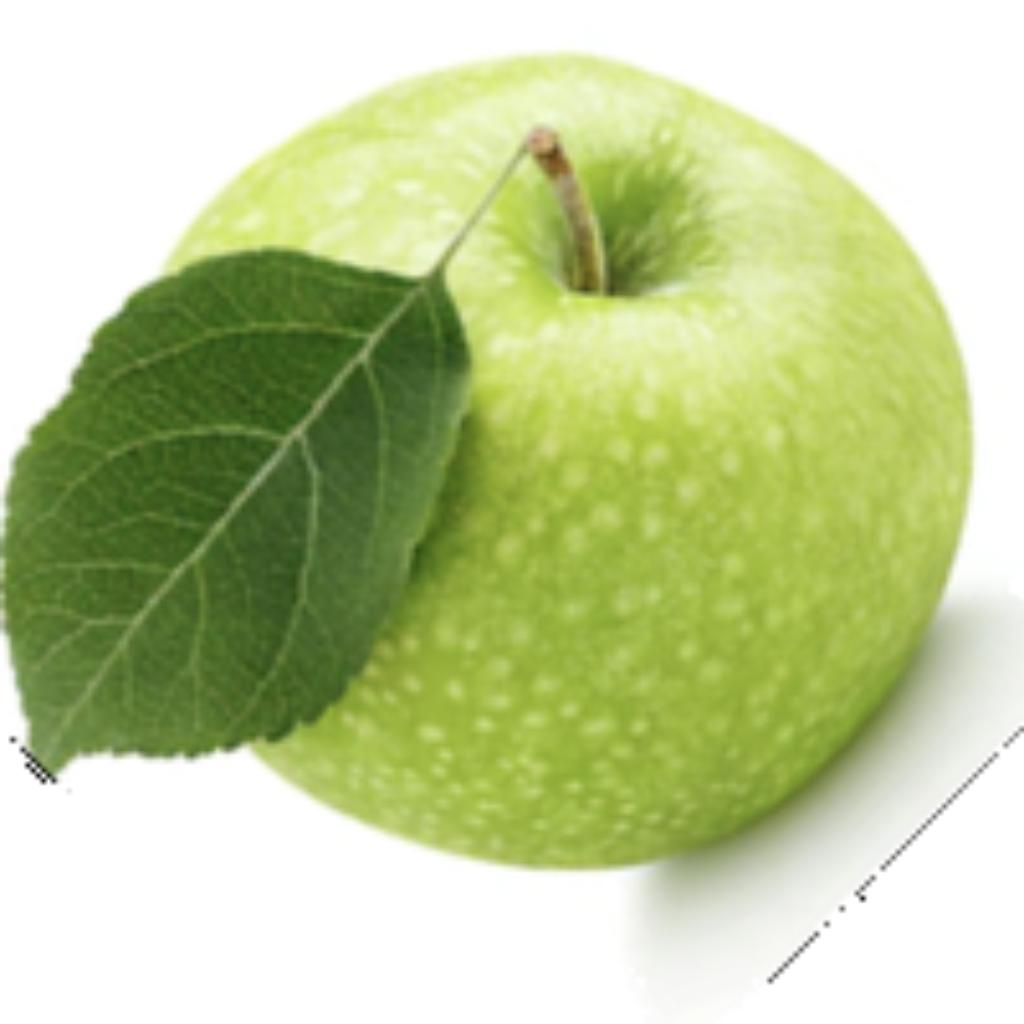apple: (0, 46, 1019, 957)
